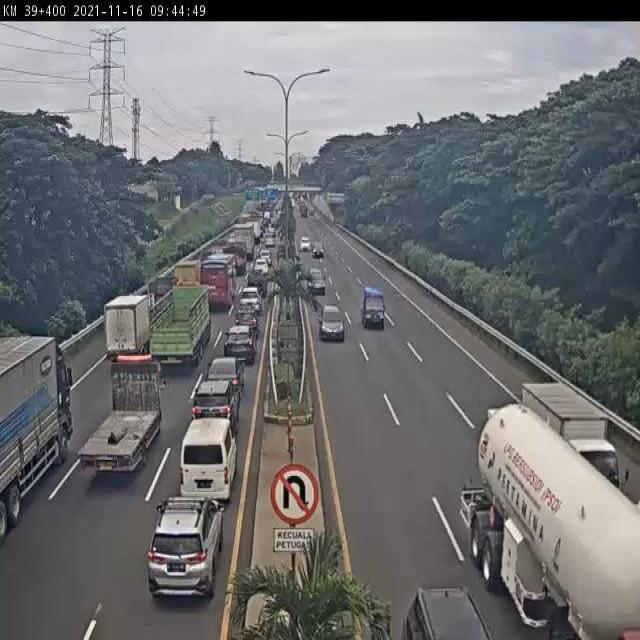ARABA: (146, 502, 227, 602), (188, 382, 236, 447), (205, 355, 246, 396), (359, 288, 386, 335), (223, 327, 255, 365), (318, 301, 347, 340), (232, 308, 259, 335), (236, 288, 261, 316)
KAMYONET: (521, 375, 635, 497), (78, 356, 168, 483), (104, 295, 150, 364), (171, 253, 204, 300), (144, 274, 182, 314)
OTOBUS: (181, 422, 241, 507), (194, 253, 234, 316)
TIR: (454, 405, 640, 640), (0, 336, 75, 547), (147, 288, 206, 373)
